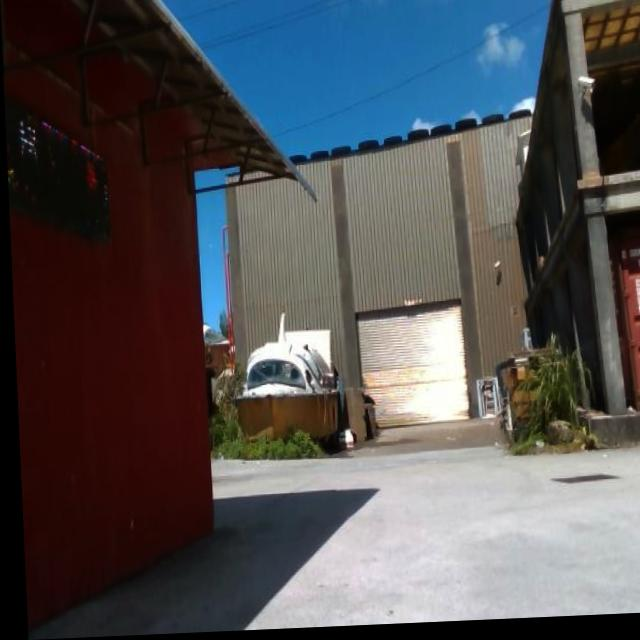pollute: (472, 329, 550, 455), (335, 389, 371, 452)
